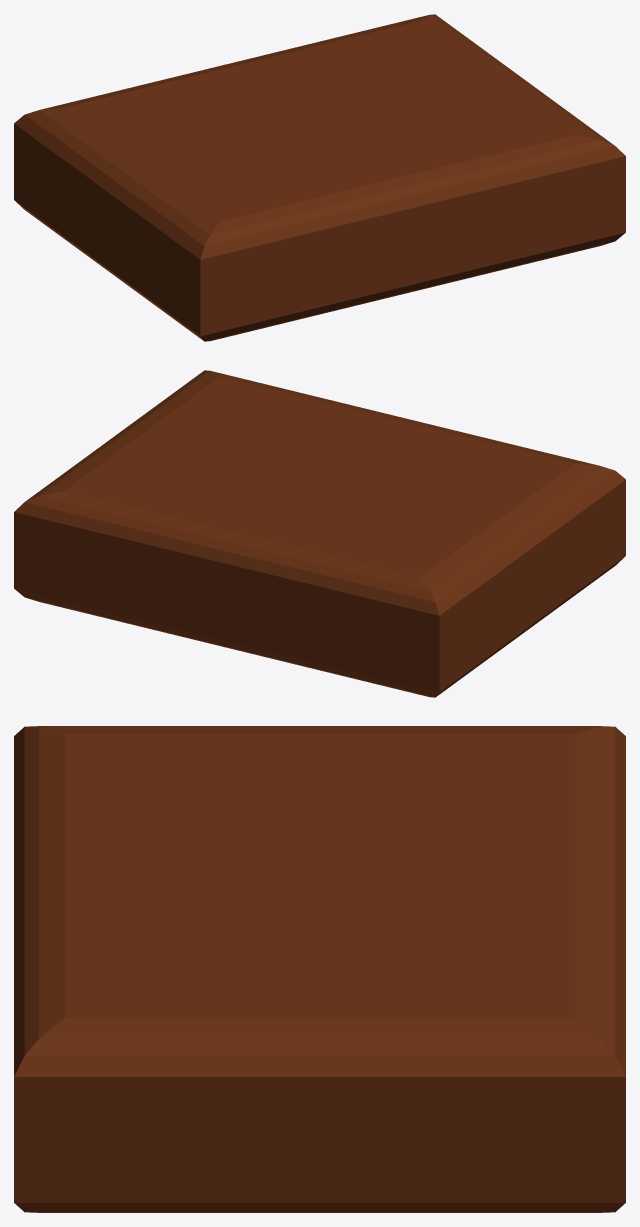
The model's file is CookedBrownie.fbx.
3 views of the same model, one above another, from view 1: azimuth 30°, elevation 25°; view 2: azimuth 150°, elevation 25°; view 3: azimuth 270°, elevation 25° (orthographic). The views are drawn at different scales.
Parts seen in each view (by area): view 1: BrownieSlice6, BrownieSlice4, BrownieSlice2, BrownieSlice5, BrownieSlice3, BrownieSlice1; view 2: BrownieSlice5, BrownieSlice3, BrownieSlice1, BrownieSlice6, BrownieSlice4, BrownieSlice2; view 3: BrownieSlice1, BrownieSlice2, BrownieSlice3, BrownieSlice4, BrownieSlice5, BrownieSlice6.
Part boxes in pixels (x1,y1,x2,y2): BrownieSlice6: (107, 138, 342, 341); BrownieSlice4: (249, 104, 483, 310); BrownieSlice2: (391, 77, 625, 275); BrownieSlice5: (14, 79, 248, 274); BrownieSlice3: (164, 45, 390, 138); BrownieSlice1: (305, 14, 524, 103); BrownieSlice5: (297, 494, 532, 697); BrownieSlice3: (156, 460, 390, 666); BrownieSlice1: (14, 433, 248, 631); BrownieSlice6: (391, 435, 625, 630); BrownieSlice4: (249, 401, 475, 494); BrownieSlice2: (115, 370, 334, 459); BrownieSlice1: (320, 933, 625, 1212); BrownieSlice2: (14, 933, 319, 1212); BrownieSlice3: (320, 819, 625, 962); BrownieSlice4: (14, 819, 319, 962); BrownieSlice5: (320, 726, 625, 849); BrownieSlice6: (14, 726, 319, 849).
Bounding box in the file's own units: 65.18 × 16.64 × 49.45.
